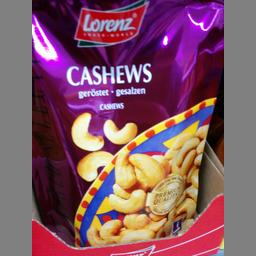nuts: (30, 0, 220, 247)
